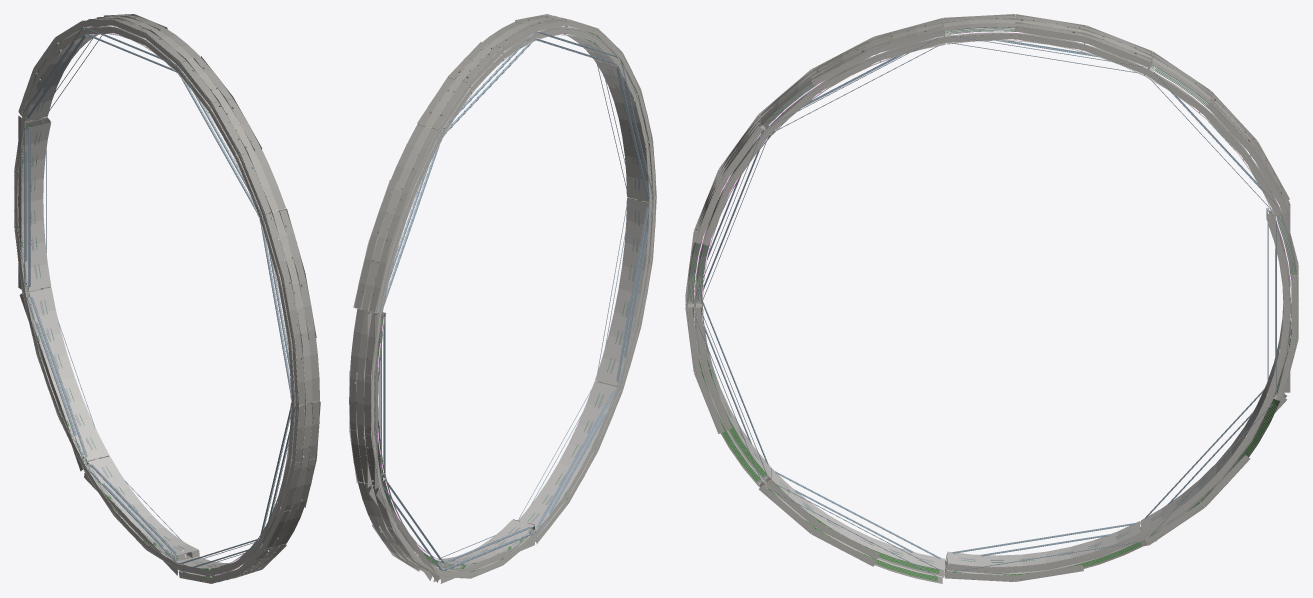
Rendered from xuanshu_interior_C51.glb.
3 views of the same model, side by side, from view 1: azimuth 30°, elevation 25°; view 2: azimuth 150°, elevation 25°; view 3: azimuth 270°, elevation 25° (orthographic). The views are drawn at different scales.
Visible parts, largest first — view 1: UNIT-AGR-009, UNIT-AGR-011, UNIT-AGR-010, UNIT-PRT-001, UNIT-PRT-003, UNIT-PRT-002, UNIT-GEN-003; view 2: UNIT-PRT-002, UNIT-AGR-010, UNIT-PRT-003, UNIT-AGR-011, UNIT-PRT-001, UNIT-AGR-009, UNIT-GEN-003; view 3: UNIT-AGR-010, UNIT-AGR-009, UNIT-PRT-002, UNIT-AGR-011, UNIT-PRT-001, UNIT-PRT-003.
Part boxes in pixels (bbox=[...]): UNIT-AGR-009: bbox=[18, 117, 199, 560]; UNIT-AGR-011: bbox=[178, 208, 320, 583]; UNIT-AGR-010: bbox=[18, 14, 285, 215]; UNIT-PRT-001: bbox=[22, 26, 276, 217]; UNIT-PRT-003: bbox=[14, 117, 199, 570]; UNIT-PRT-002: bbox=[178, 216, 309, 576]; UNIT-GEN-003: bbox=[18, 115, 186, 575]; UNIT-PRT-002: bbox=[518, 59, 652, 537]; UNIT-AGR-010: bbox=[353, 14, 622, 313]; UNIT-PRT-003: bbox=[349, 309, 535, 578]; UNIT-AGR-011: bbox=[530, 53, 656, 543]; UNIT-PRT-001: bbox=[378, 27, 619, 312]; UNIT-AGR-009: bbox=[375, 312, 534, 570]; UNIT-GEN-003: bbox=[367, 313, 535, 583]; UNIT-AGR-010: bbox=[758, 14, 1289, 213]; UNIT-AGR-009: bbox=[946, 208, 1291, 574]; UNIT-PRT-002: bbox=[693, 123, 945, 576]; UNIT-AGR-011: bbox=[685, 115, 944, 583]; UNIT-PRT-001: bbox=[765, 31, 1281, 215]; UNIT-PRT-003: bbox=[944, 213, 1298, 581].
Bounding box in the file's own units: 13.31 × 298 × 296.
